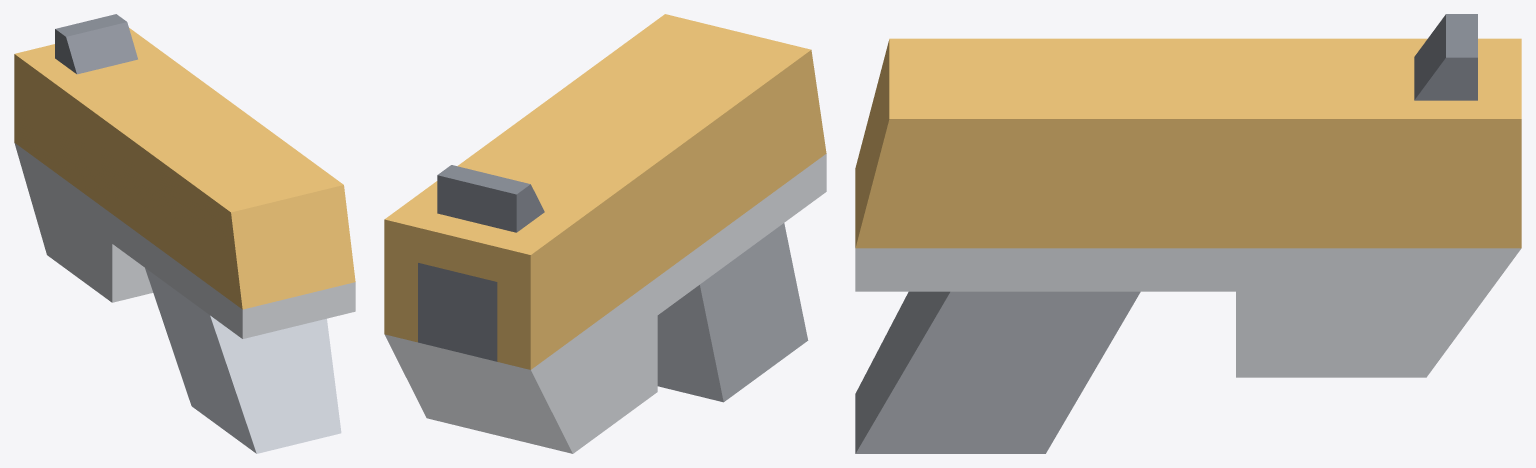
File: weapon_gun.glb
3 views of the same model, side by side, from view 1: azimuth 30°, elevation 25°; view 2: azimuth 150°, elevation 25°; view 3: azimuth 270°, elevation 25° (orthographic). The views are drawn at different scales.
Visible parts, largest first — view 1: weapon_gun; view 2: weapon_gun; view 3: weapon_gun.
Boxes of the visible parts, x1,y1,x2,y2 form: weapon_gun: (14, 14, 355, 453); weapon_gun: (384, 14, 826, 453); weapon_gun: (855, 14, 1521, 453).
Bounding box in the file's own units: 0.1 × 0.225 × 0.35.
